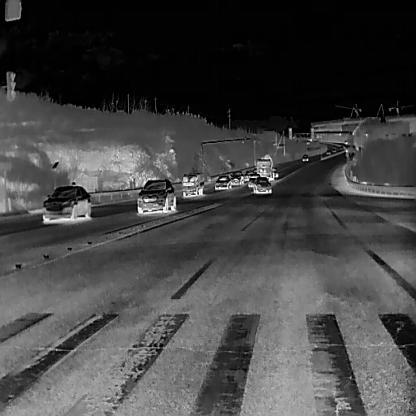car: (42, 185, 91, 223), (137, 177, 176, 213), (181, 171, 204, 198), (254, 152, 274, 180), (252, 176, 272, 194), (214, 173, 231, 190), (229, 170, 244, 185), (247, 172, 261, 188), (243, 168, 255, 182), (271, 166, 278, 178), (301, 154, 308, 162), (354, 143, 359, 149), (331, 147, 336, 152), (325, 149, 330, 154), (332, 144, 336, 149), (345, 148, 349, 153), (343, 140, 347, 144), (339, 146, 343, 150)
